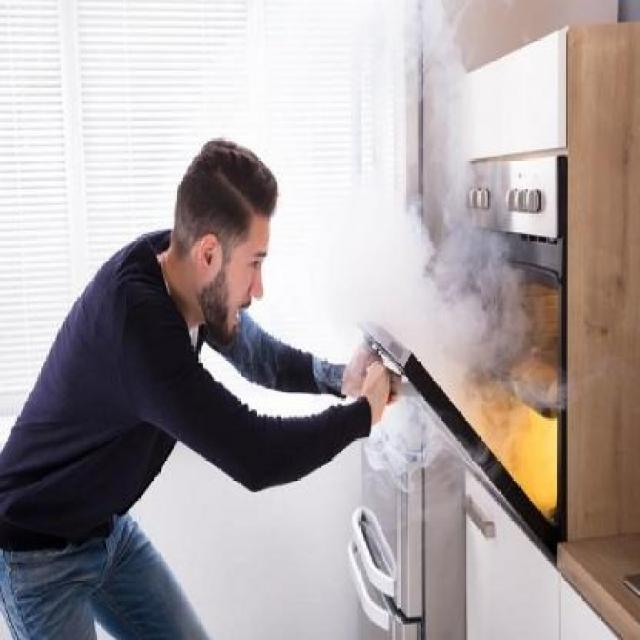smoke: (333, 182, 504, 432)
